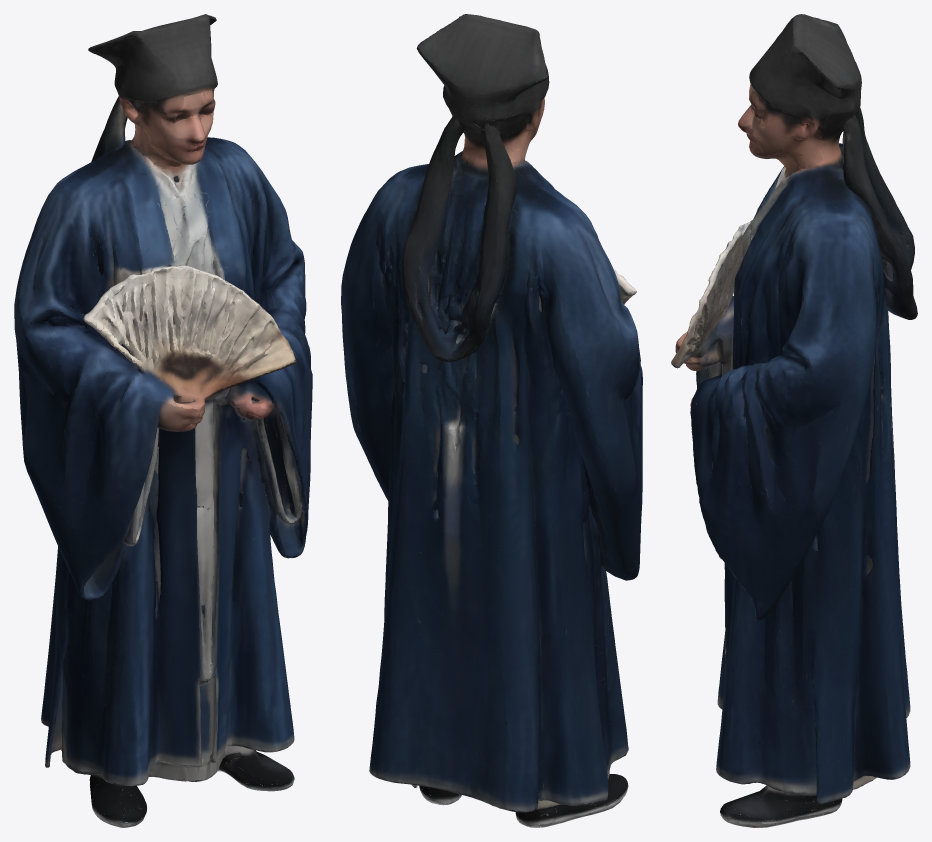
Rendered from scholar-literati.glb.
The picture shows the model from 3 angles, left to right: view 1: azimuth 30°, elevation 25°; view 2: azimuth 150°, elevation 25°; view 3: azimuth 270°, elevation 25°; orthographic projection. The views are drawn at different scales.
Visible parts, largest first — view 1: world; view 2: world; view 3: world.
Boxes of the visible parts, bbox=[...] form: world: bbox=[14, 14, 312, 827]; world: bbox=[341, 14, 642, 827]; world: bbox=[671, 14, 917, 827].
Bounding box in the file's own units: 0.696 × 1.8 × 0.5332.
1 material, 1 textured.
